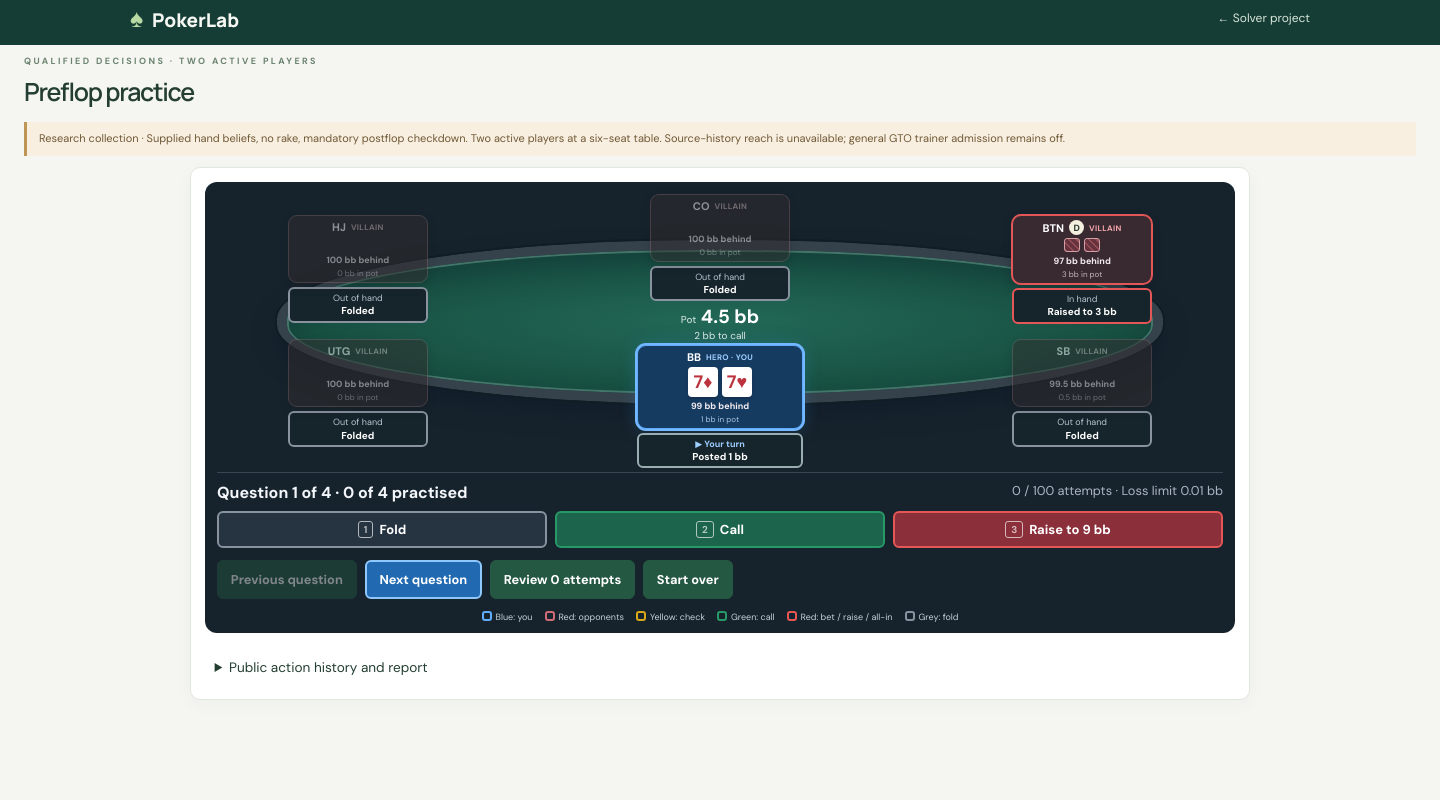
Scenario: reviews zero attempts without inventing coverage
Expected: the button "2 Call" is shown, [555,511,885,548]
Click the button "Review 0 attempts". click: [562, 580]
box: [490,560,635,599]
(page scrolled)
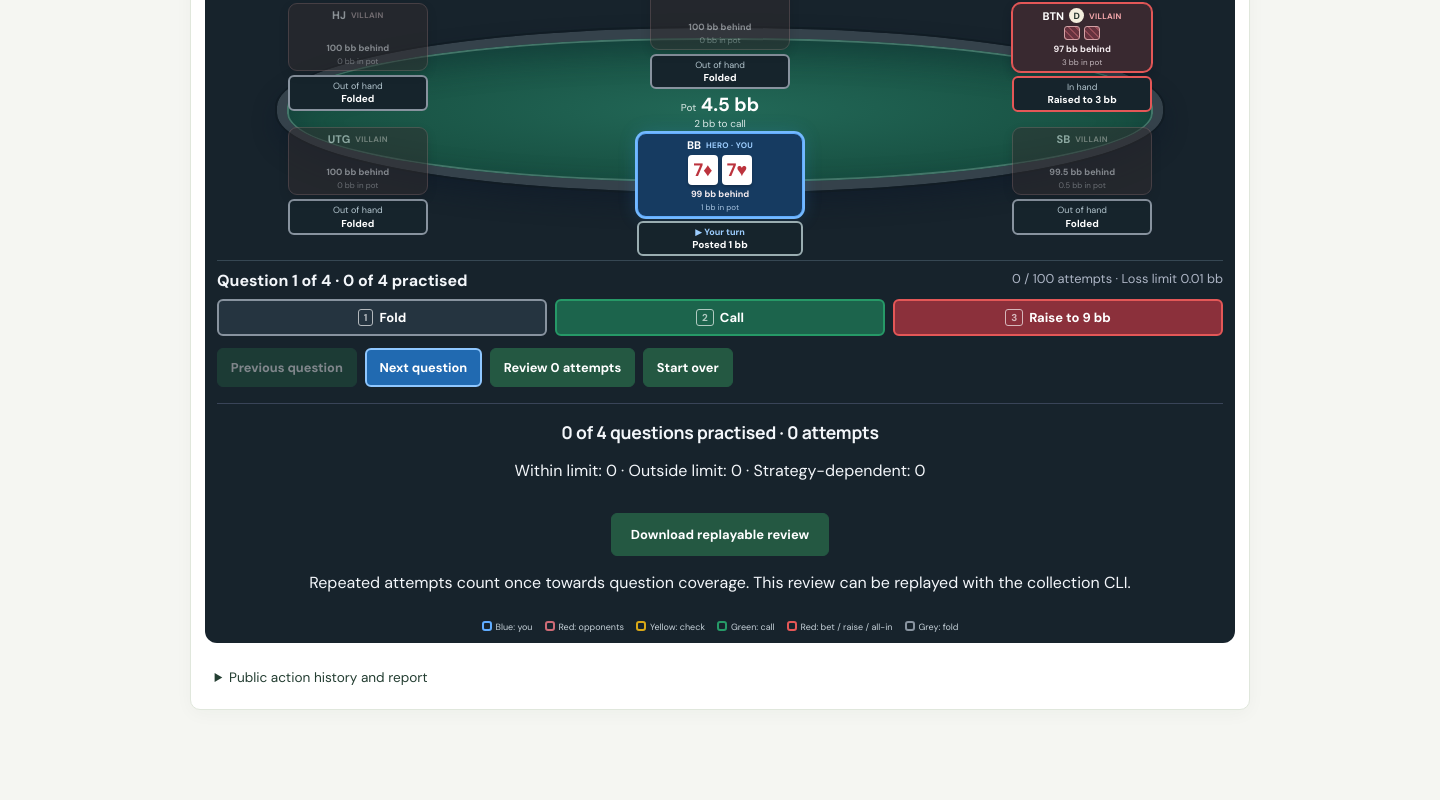
Expected: the element named "Collection review" shows "0 of 4 questions practised · 0 attempts", [217,403,1223,593]
